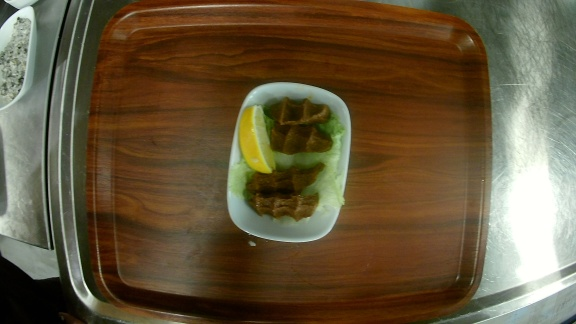cigkofte: (226, 81, 353, 242)
